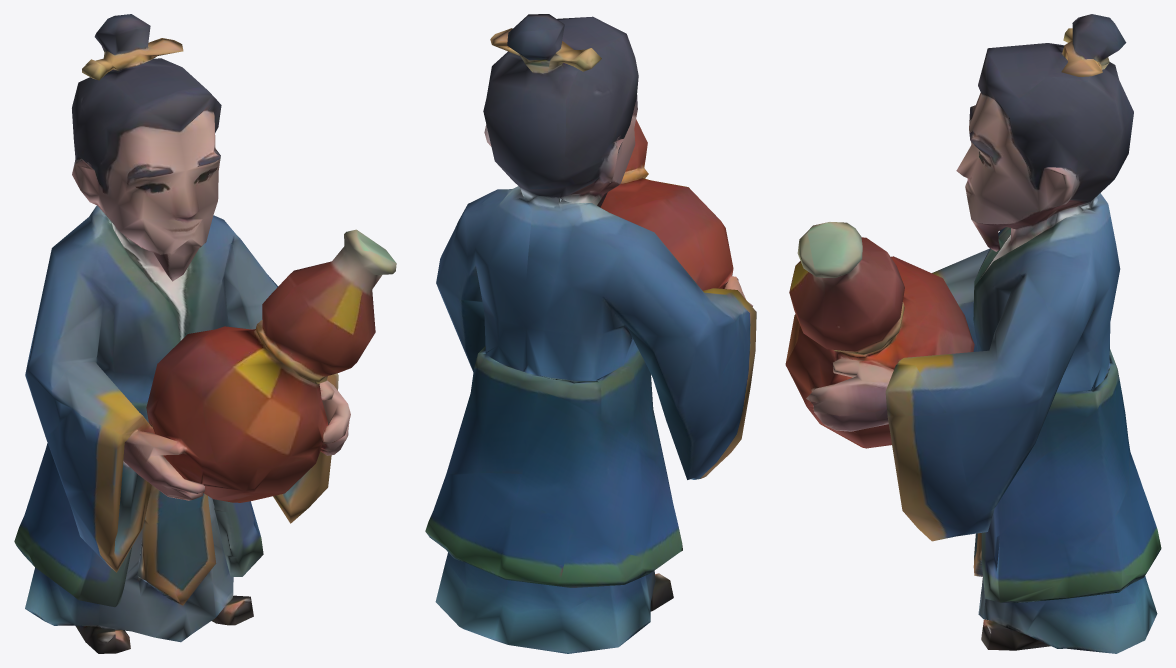
Rendered from ss_tianyi_healer.glb.
3 renders of one model, left to right at view 1: azimuth 30°, elevation 25°; view 2: azimuth 150°, elevation 25°; view 3: azimuth 270°, elevation 25°, orthographic. The views are drawn at different scales.
Parts seen in each view (by area): view 1: tripo_node_ba565123-0380-447a-b667-d9701e50e4e6; view 2: tripo_node_ba565123-0380-447a-b667-d9701e50e4e6; view 3: tripo_node_ba565123-0380-447a-b667-d9701e50e4e6.
Boxes of the visible parts, x1=… form: tripo_node_ba565123-0380-447a-b667-d9701e50e4e6: x1=14, y1=14, x2=396, y2=653; tripo_node_ba565123-0380-447a-b667-d9701e50e4e6: x1=425, y1=14, x2=756, y2=653; tripo_node_ba565123-0380-447a-b667-d9701e50e4e6: x1=785, y1=14, x2=1161, y2=653.
Bounding box in the file's own units: 0.4873 × 0.9982 × 0.5682.
Materials: 1 (1 with a texture image).
